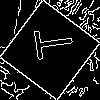T: (25, 25, 74, 62)
